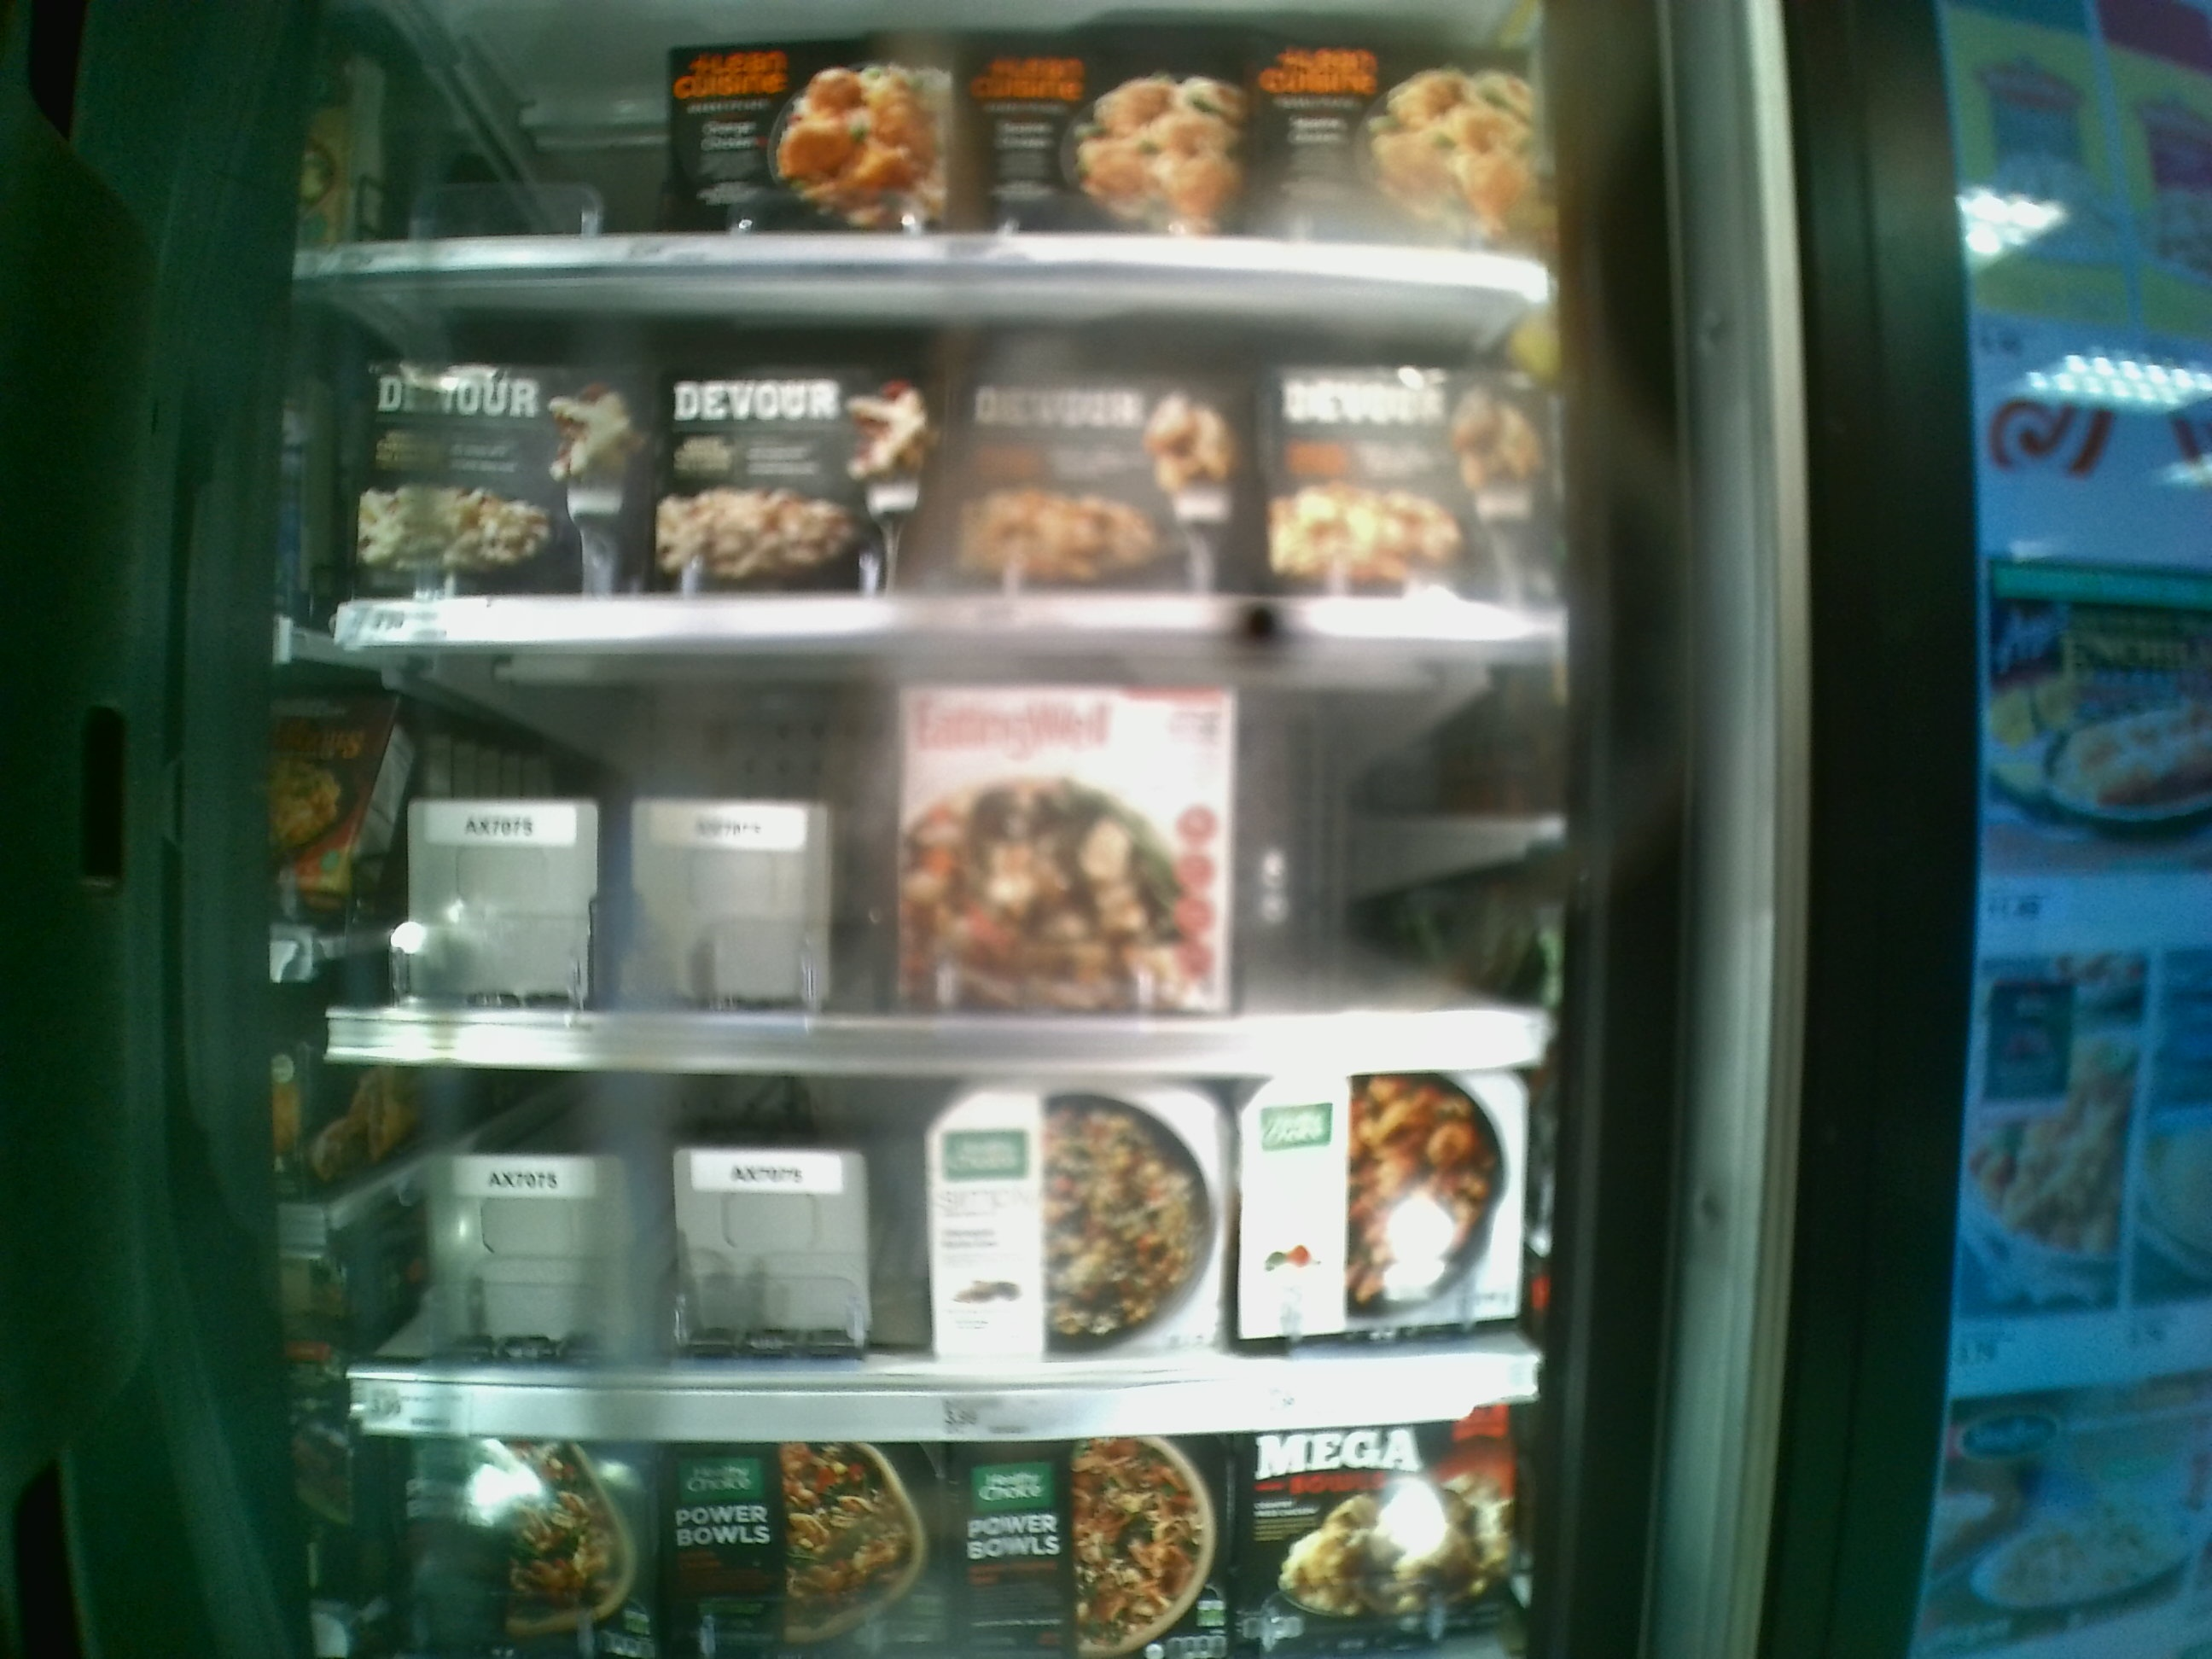Shelf: (315, 633, 1564, 1065), (326, 1058, 1571, 1450), (298, 272, 1566, 641)
